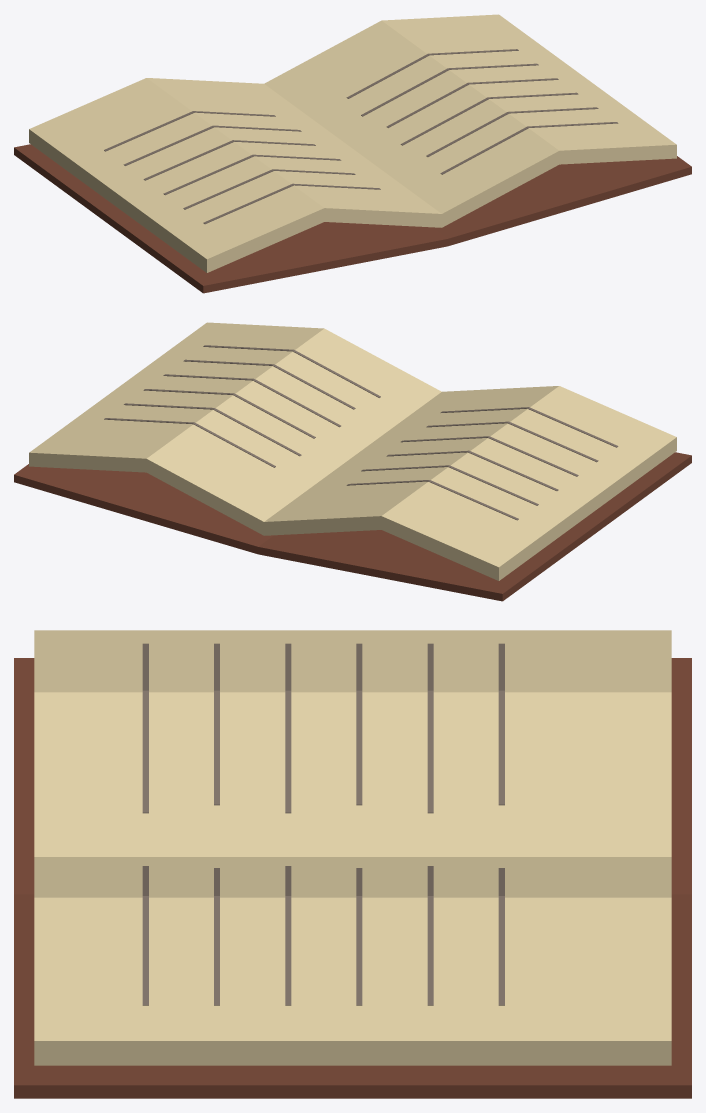
The model's file is open_book_01.glb.
The picture shows the model from 3 angles, top to bottom: view 1: azimuth 30°, elevation 25°; view 2: azimuth 150°, elevation 25°; view 3: azimuth 270°, elevation 25°; orthographic projection. The views are drawn at different scales.
Visible parts, largest first — view 1: PageBlock_1, PageBlock__1, Cover__1, Cover_1; view 2: PageBlock_1, PageBlock__1, Cover__1, Cover_1; view 3: PageBlock__1, PageBlock_1, Cover_1, Cover__1, Line__1_0_1, Line__1_2_1, Line__1_4_1, Line__1_3_1, Line__1_5_1, Line_1_0_0, Line_1_2_0, Line_1_3_0 (+2 smaller).
Boxes of the visible parts, box(x1,y1,x2,y2) form: PageBlock_1: box(264, 14, 676, 227); PageBlock__1: box(29, 78, 441, 272); Cover__1: box(14, 144, 447, 293); Cover_1: box(432, 156, 691, 246); PageBlock_1: box(29, 322, 441, 535); PageBlock__1: box(264, 386, 676, 580); Cover__1: box(258, 452, 691, 601); Cover_1: box(14, 464, 273, 554); PageBlock__1: box(34, 630, 671, 856); PageBlock_1: box(34, 857, 671, 1065); Cover_1: box(14, 894, 691, 1098); Cover__1: box(14, 658, 691, 894); Line__1_0_1: box(142, 690, 148, 813); Line__1_2_1: box(285, 690, 291, 813); Line__1_4_1: box(427, 690, 433, 813); Line__1_3_1: box(356, 690, 362, 805); Line__1_5_1: box(498, 690, 504, 805); Line_1_0_0: box(142, 896, 148, 1005); Line_1_2_0: box(285, 896, 291, 1005); Line_1_3_0: box(356, 896, 362, 1005).
Bounding box in the file's own units: 0.4472 × 0.0558 × 0.3.
